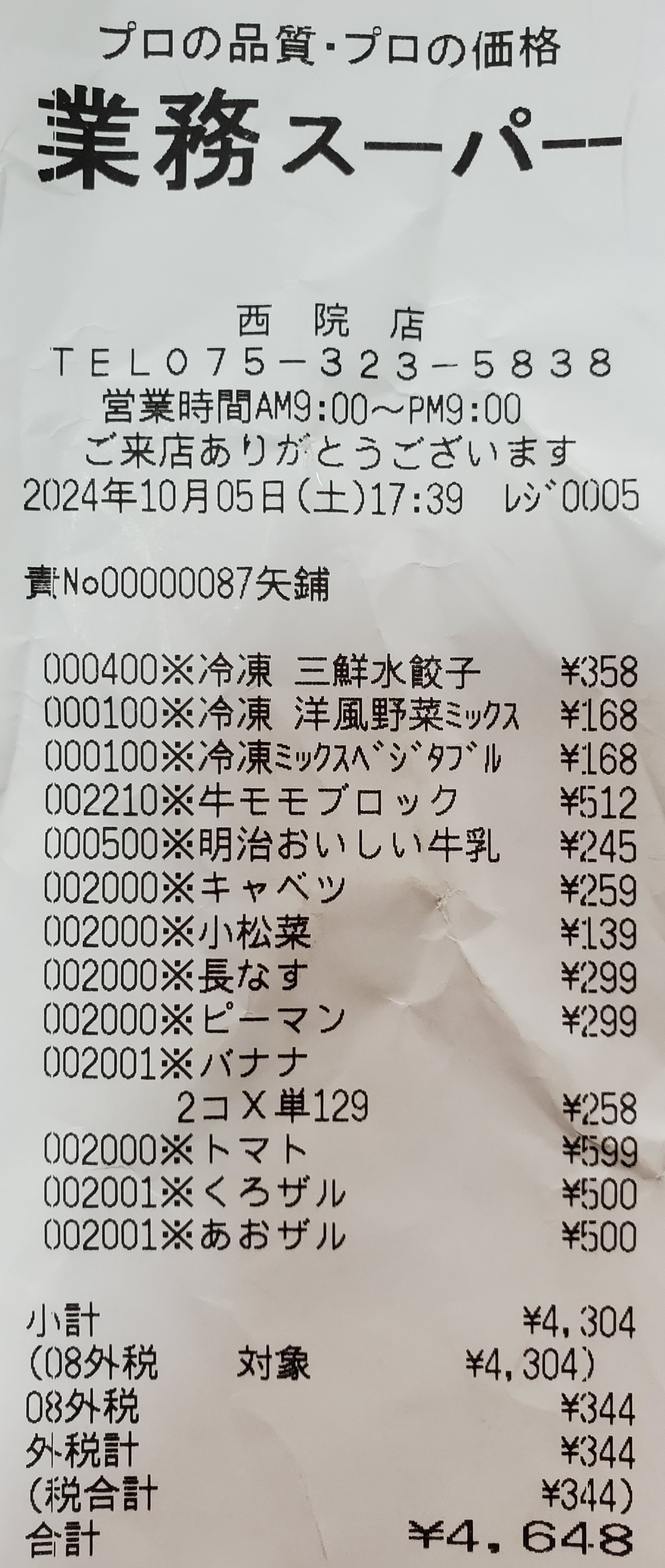Date: (18, 471, 296, 523)
Shopname: (30, 89, 652, 212)
Telnum: (157, 344, 626, 386)
Totalpay: (18, 1518, 657, 1568)
